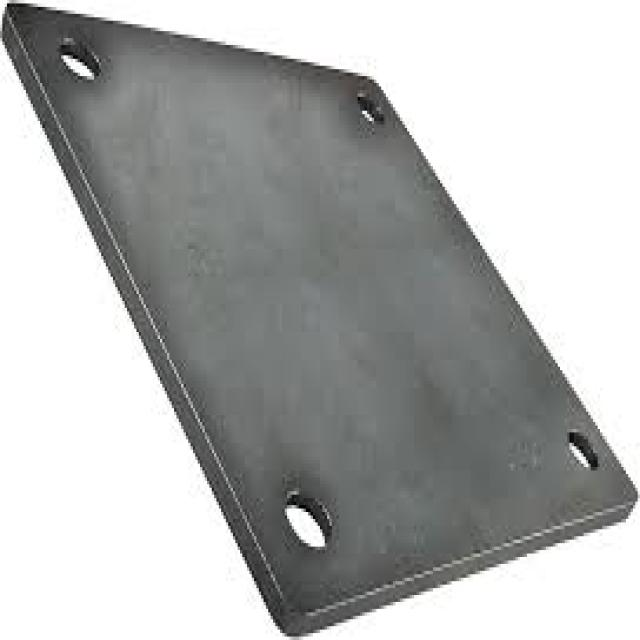holes: (282, 488, 332, 550), (56, 35, 99, 80), (565, 426, 598, 470), (356, 93, 388, 130)
